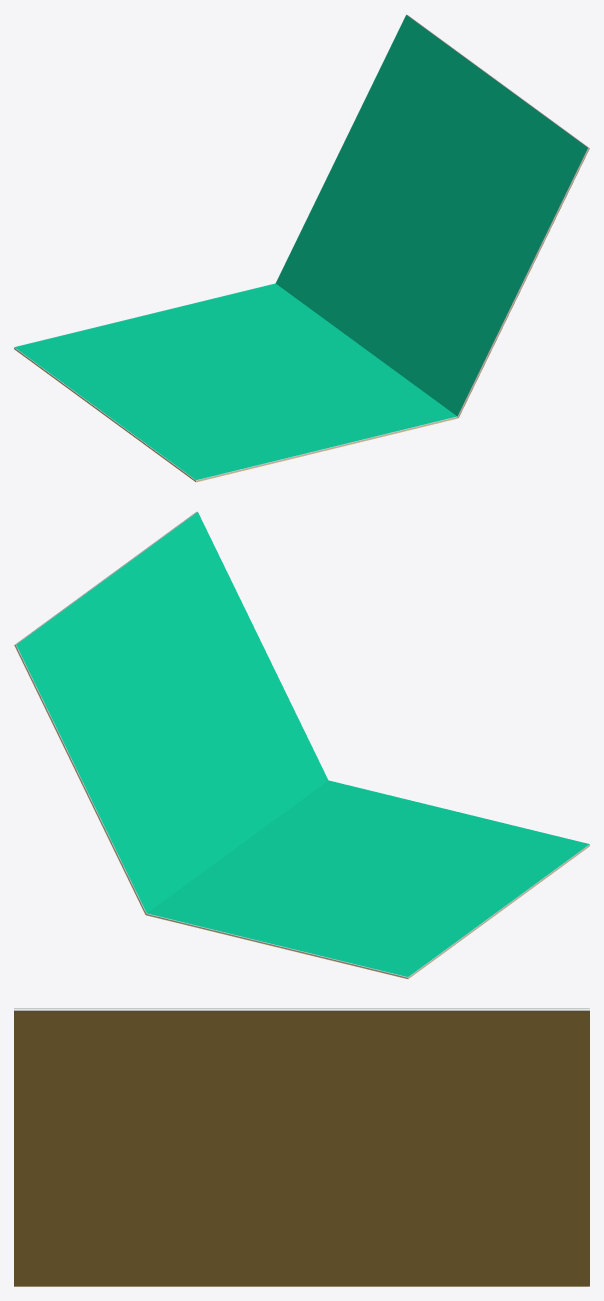
The model's file is real-sombra-arte-60.glb.
3 renders of one model, top to bottom at view 1: azimuth 30°, elevation 25°; view 2: azimuth 150°, elevation 25°; view 3: azimuth 270°, elevation 25°, orthographic. The views are drawn at different scales.
Parts seen in each view (by area): view 1: mesh_4, mesh_1, mesh_0, mesh_3; view 2: mesh_4, mesh_1, mesh_0, mesh_3; view 3: mesh_5, mesh_3, mesh_4.
Part boxes in pixels (x1,y1,x2,y2): mesh_4: (275,15,587,416); mesh_1: (14,283,456,479); mesh_0: (14,347,458,481); mesh_3: (406,15,589,417); mesh_4: (16,512,328,913); mesh_1: (147,780,589,976); mesh_0: (146,844,589,978); mesh_3: (14,512,197,914); mesh_5: (14,1011,589,1286); mesh_3: (14,1008,589,1285); mesh_4: (14,1008,588,1008).
Bounding box in the file's own units: 0.0751 × 0.0435 × 0.06.
4 materials, 2 textured.
